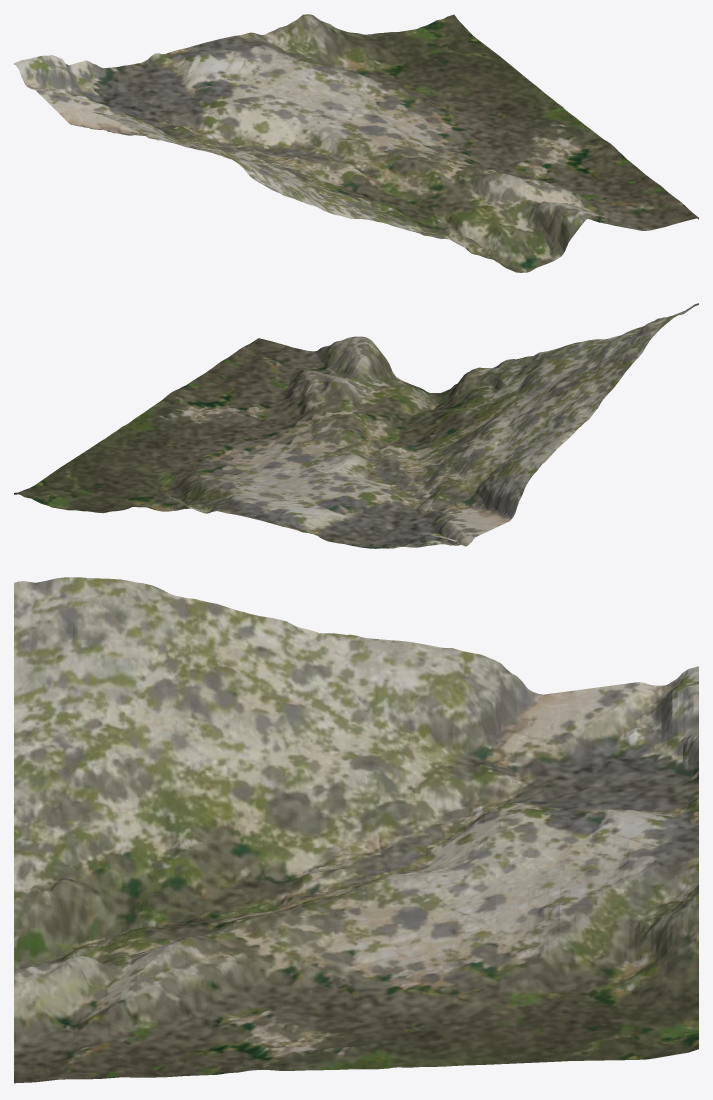
3 views of the same model, one above another, from view 1: azimuth 30°, elevation 25°; view 2: azimuth 150°, elevation 25°; view 3: azimuth 270°, elevation 25° (orthographic). The views are drawn at different scales.
Size of the model in its own units: 250 by 87.58 by 241.
Materials: 1 (1 with a texture image).
